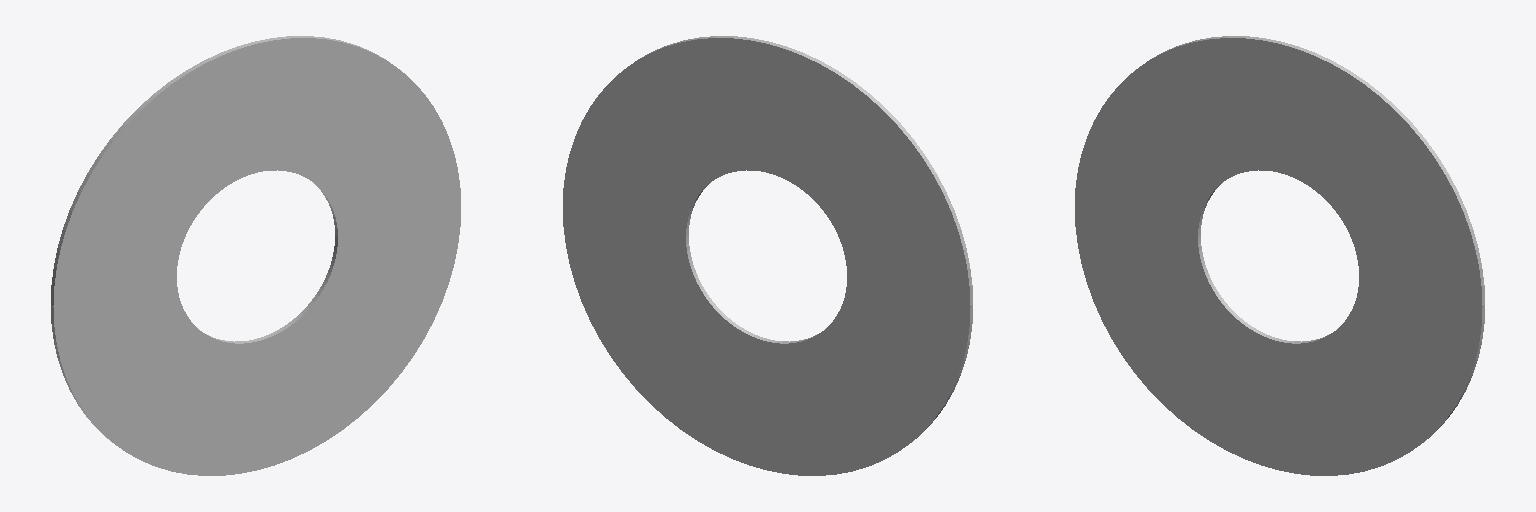
The model's file is Strips_PositiveEndcap_passives_l11.obj.
3 views of the same model, side by side, from view 1: azimuth 30°, elevation 25°; view 2: azimuth 150°, elevation 25°; view 3: azimuth 330°, elevation 25° (orthographic).
Size of the model in its own units: 1938 by 1938 by 23.66.